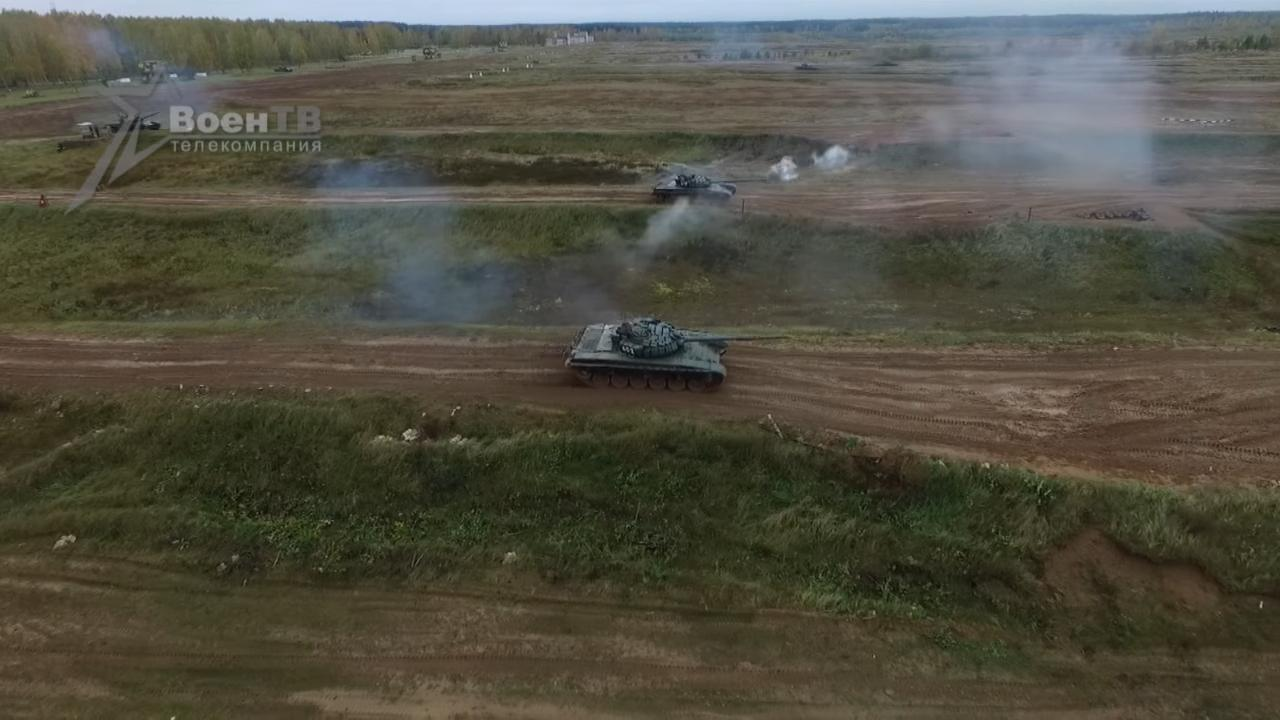tank: (565, 317, 787, 392), (648, 173, 742, 206), (105, 112, 161, 133)
